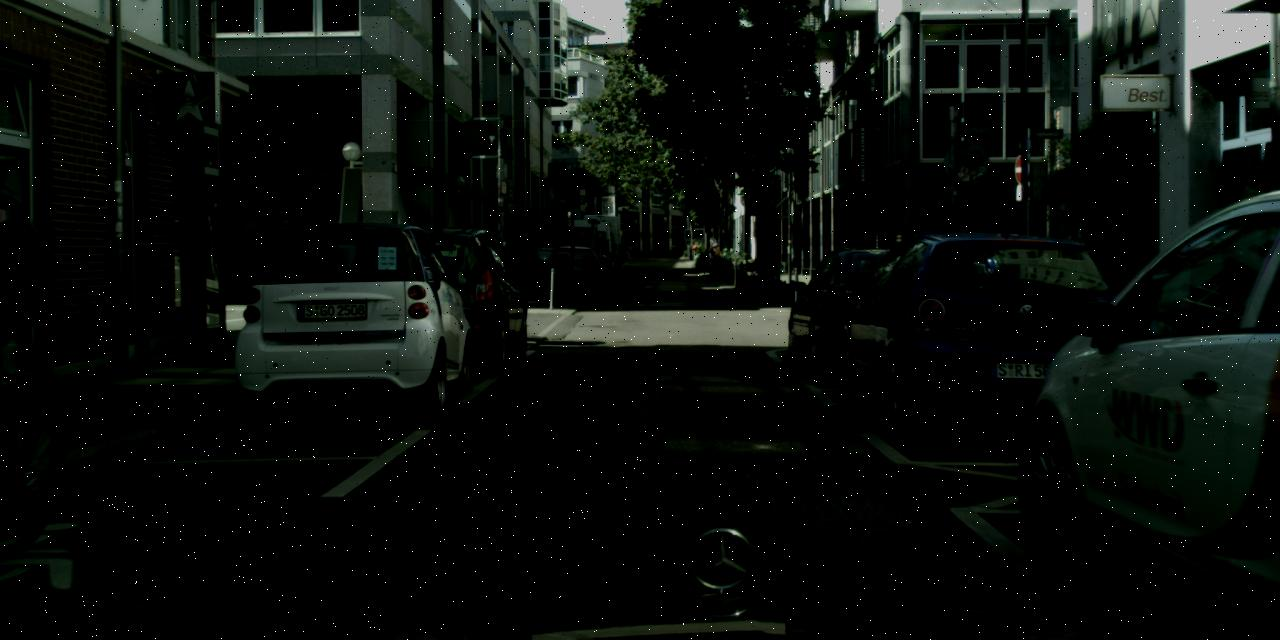ped: (242, 215, 302, 362), (294, 220, 352, 362)
